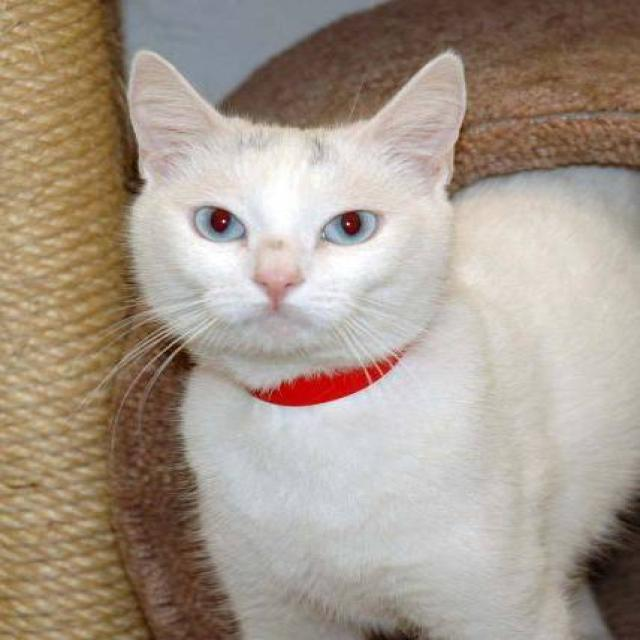cat: (75, 44, 638, 638)
